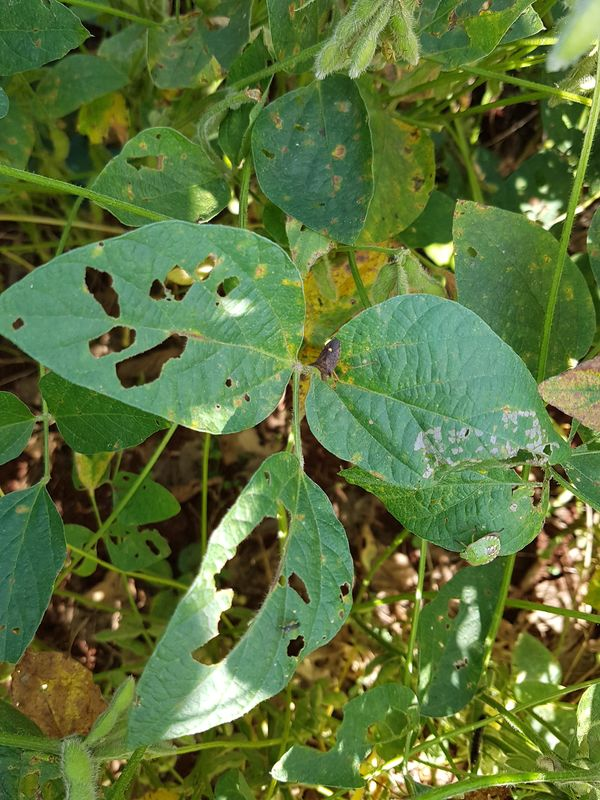Euschistus_heros_adulto: (305, 332, 351, 387)
Nezara_viridula_ninfa: (448, 520, 508, 574)
